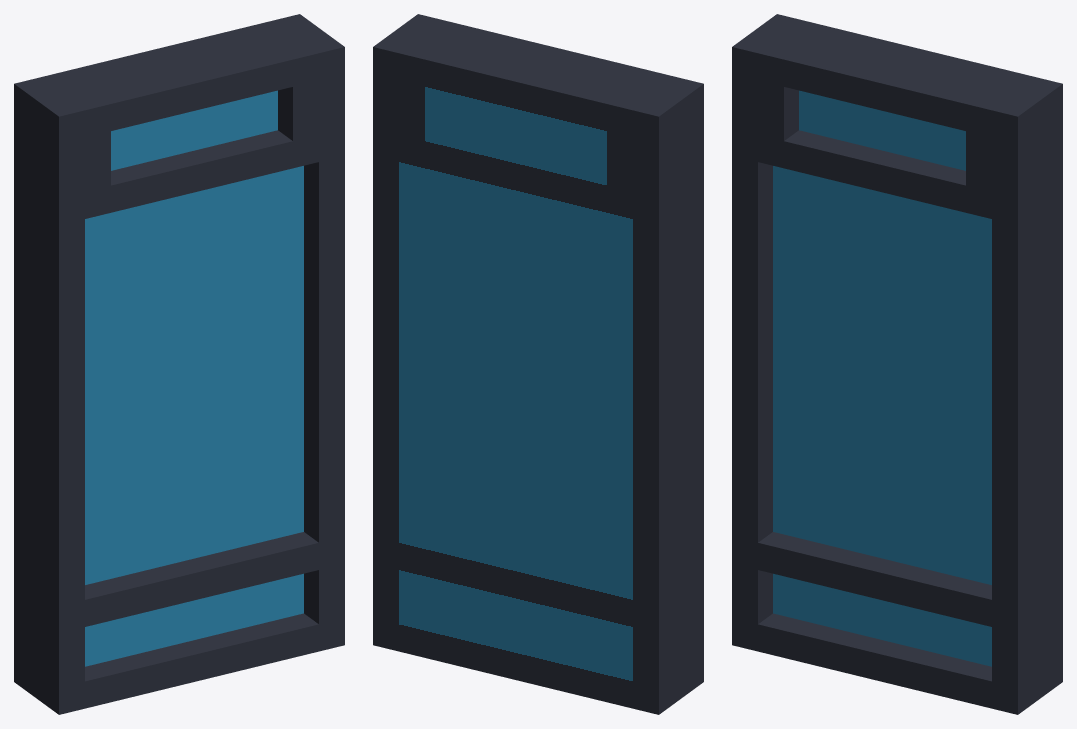
Rendered from Okno_02.dae.
The picture shows the model from 3 angles, left to right: view 1: azimuth 30°, elevation 25°; view 2: azimuth 150°, elevation 25°; view 3: azimuth 330°, elevation 25°; orthographic projection.
Visible parts, largest first — view 1: Content; view 2: Content; view 3: Content.
Part boxes in pixels (bbox=[...]): Content: bbox=[14, 14, 344, 714]; Content: bbox=[373, 14, 703, 714]; Content: bbox=[732, 14, 1062, 714].
Bounding box in the file's own units: 11 × 22 × 3.
Materials: 1 (1 with a texture image).
